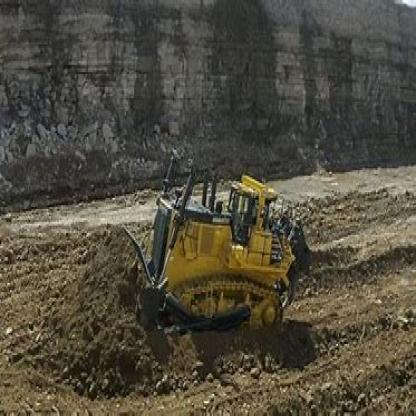bull_dozer/loader/grader: (112, 141, 304, 353)
